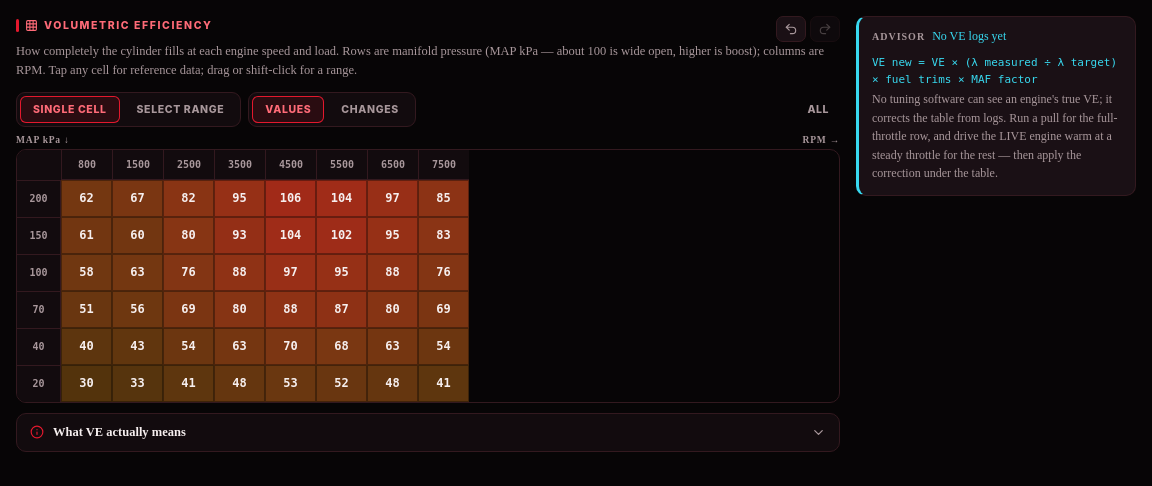
Test case: the CHANGES view › prints each cell’s signed change, and a dot where nothing moved
The image size is (1152, 486).
Click the button "CHANGES" at (370, 109), box [328,96,412,122]
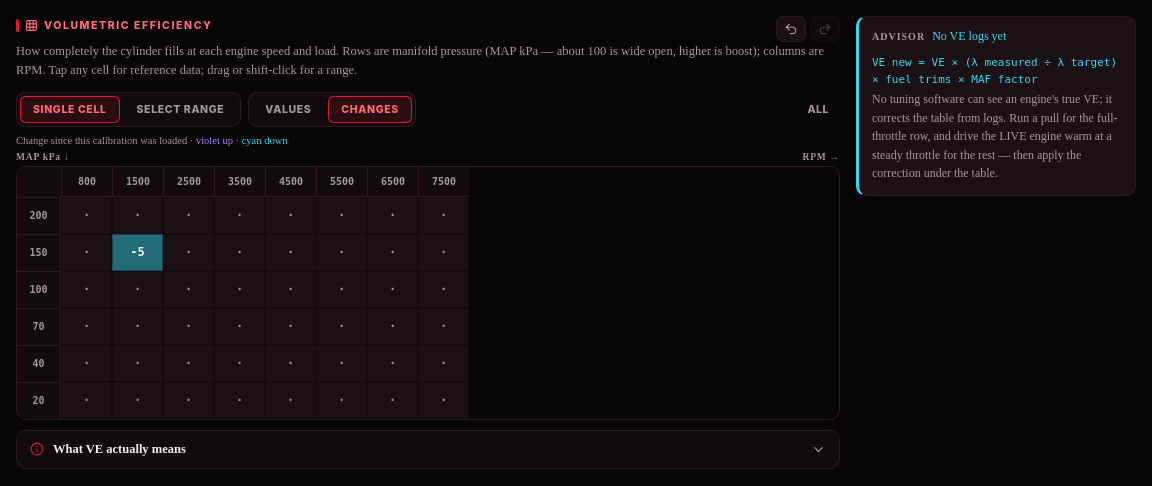
Now the text "Change since this calibration was loaded" is shown, box [16,134,196,146]
